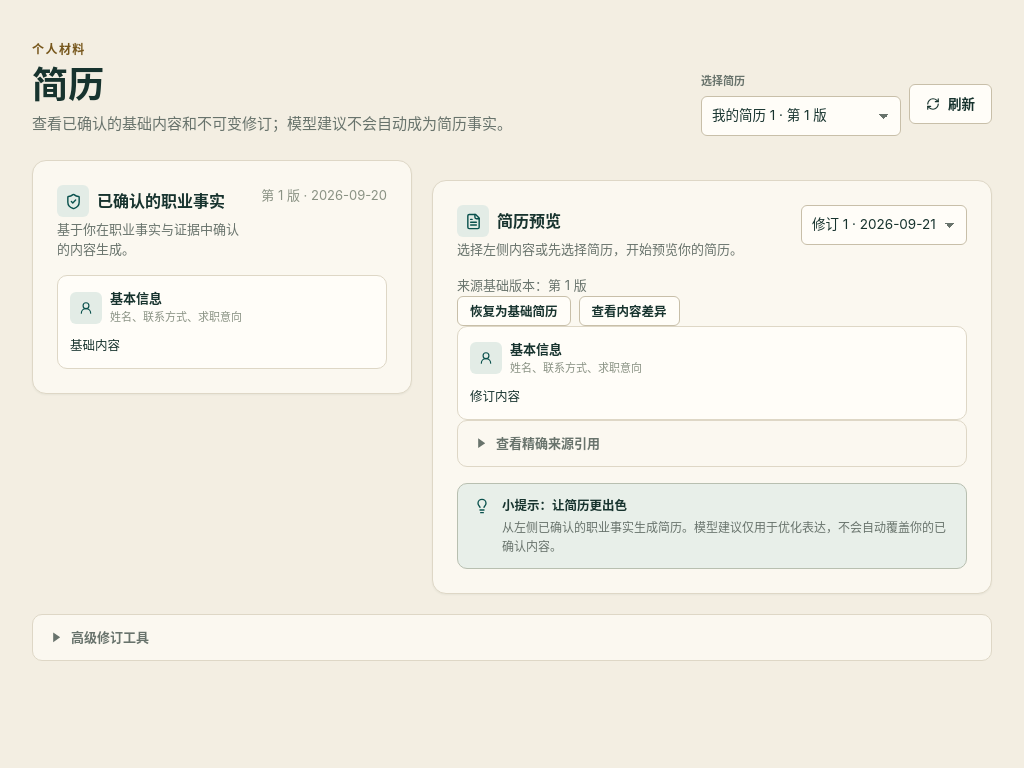
it: 按需查看简历修订差异和来源
Expected: the text "修订内容" is shown, left=470, top=388, right=520, bottom=404
Click the button "查看内容差异" at (629,311), box left=578, top=296, right=680, bottom=326
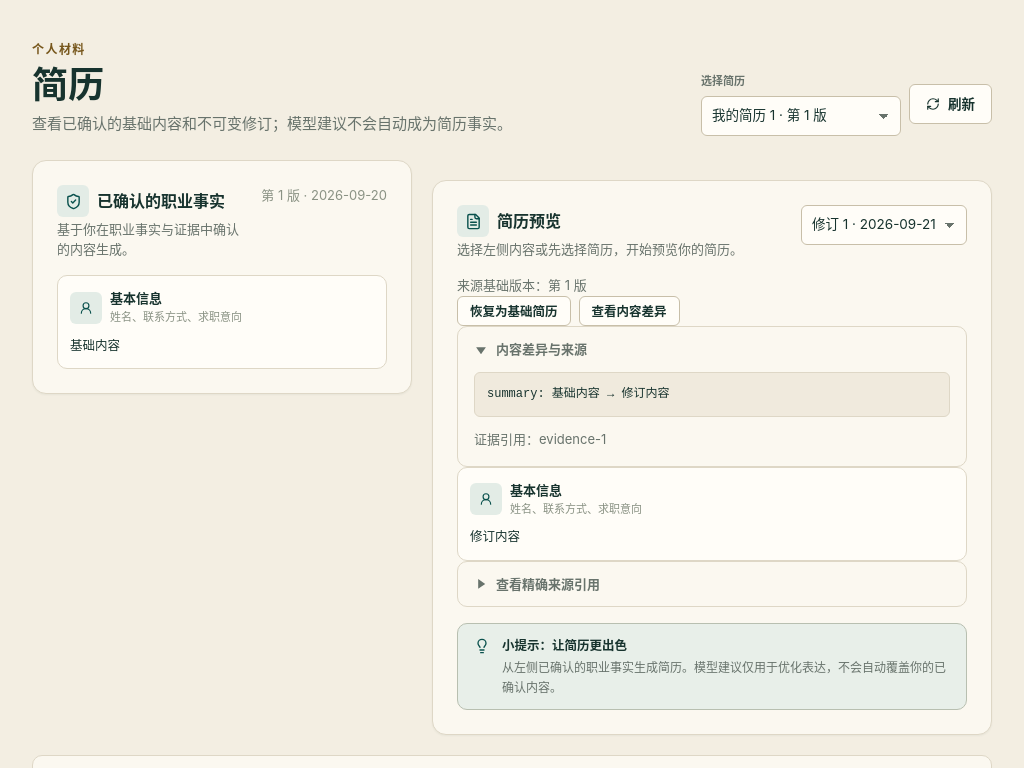
Now the text "summary: 基础内容 → 修订内容" is shown, box left=474, top=372, right=950, bottom=417
Now the text "证据引用：evidence-1" is shown, box left=474, top=431, right=606, bottom=447
